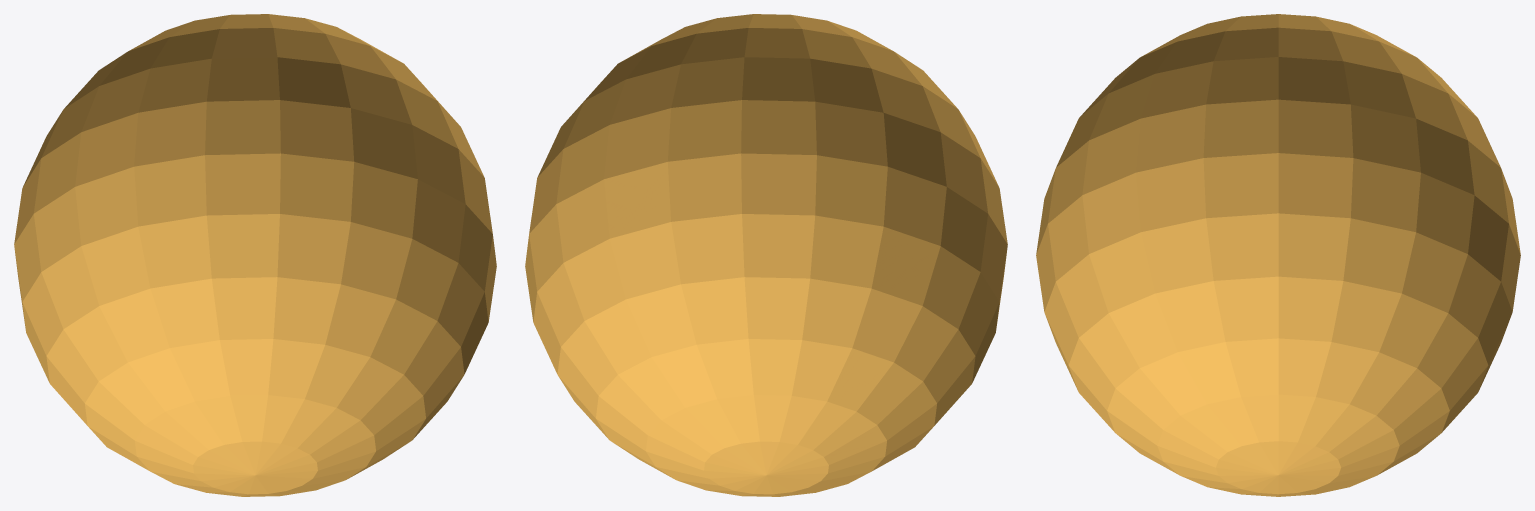
File: character-b.glb
3 views of the same model, side by side, from view 1: azimuth 30°, elevation 25°; view 2: azimuth 150°, elevation 25°; view 3: azimuth 270°, elevation 25° (orthographic).
Size of the model in its own units: 0.8 by 0.8 by 0.8.
